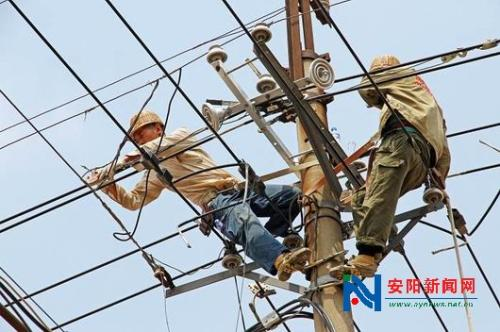boots: (273, 247, 311, 281), (343, 253, 379, 279)
gloves: (86, 163, 117, 192)
hard-hat: (128, 111, 163, 136), (368, 53, 402, 72)
person: (85, 104, 309, 280), (342, 53, 468, 278)
vest: (98, 126, 241, 210), (341, 69, 464, 165)
